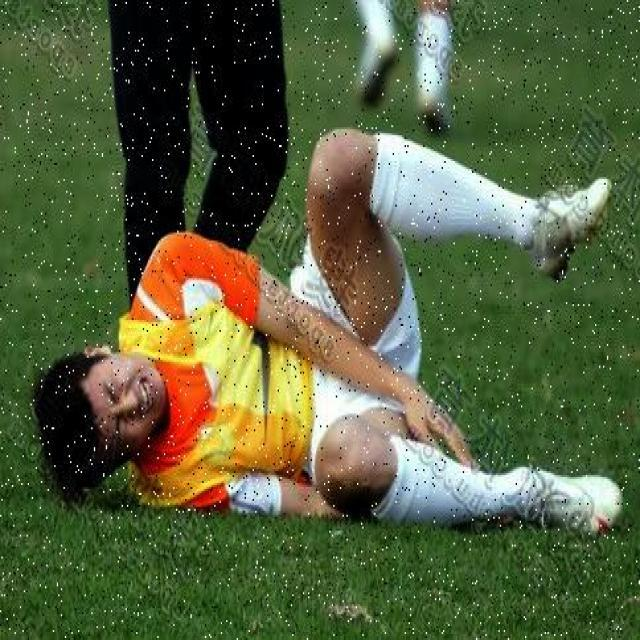fall: (57, 159, 615, 527)
